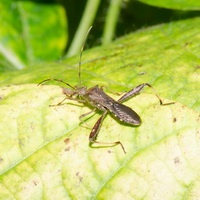insect: (38, 79, 174, 153)
